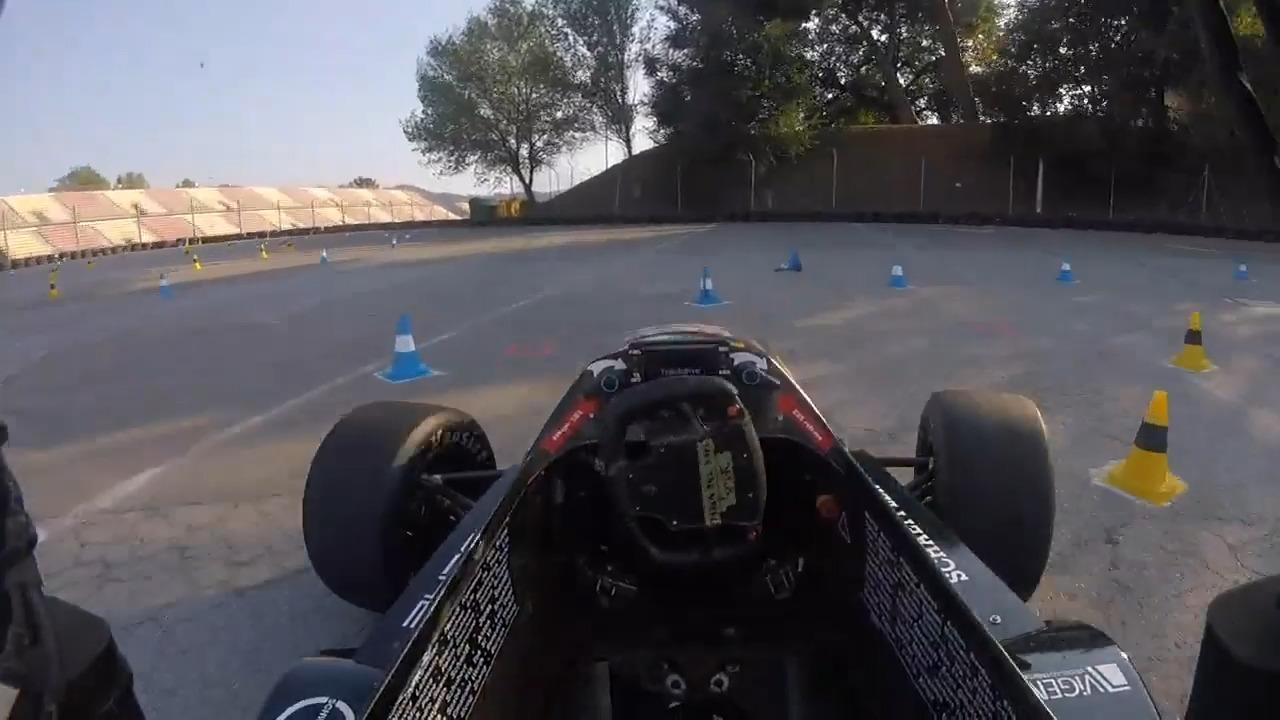blue_cone: (380, 312, 434, 383), (689, 262, 725, 308), (771, 248, 807, 276), (888, 259, 909, 291), (154, 270, 173, 301), (1054, 254, 1074, 282), (1233, 255, 1251, 284), (317, 245, 332, 266), (390, 236, 399, 249)
yellow_cone: (1095, 386, 1195, 513), (1167, 309, 1214, 376), (190, 252, 205, 271), (48, 278, 60, 298), (257, 243, 271, 260), (47, 268, 62, 282), (88, 258, 95, 270)
